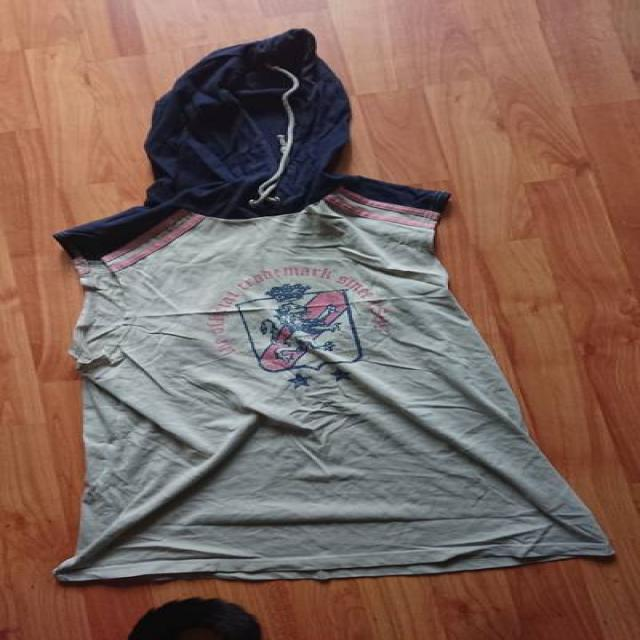Clothes -Biodegradable-: (48, 29, 613, 585)
